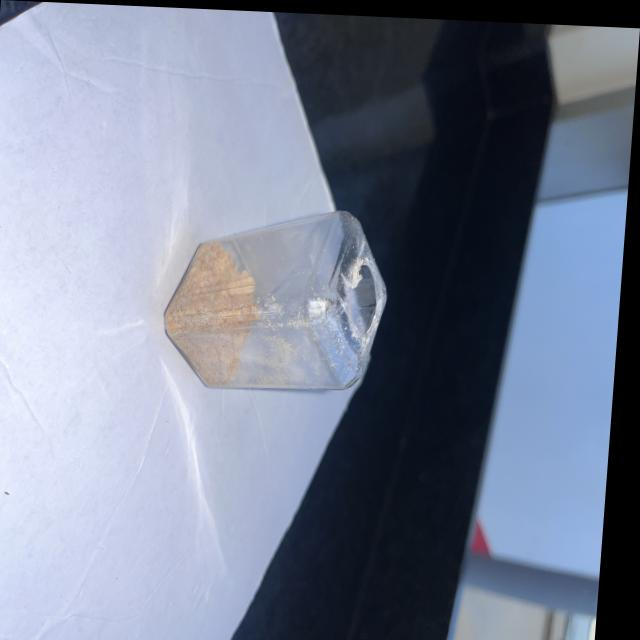garlic_powder: (164, 241, 264, 387)
